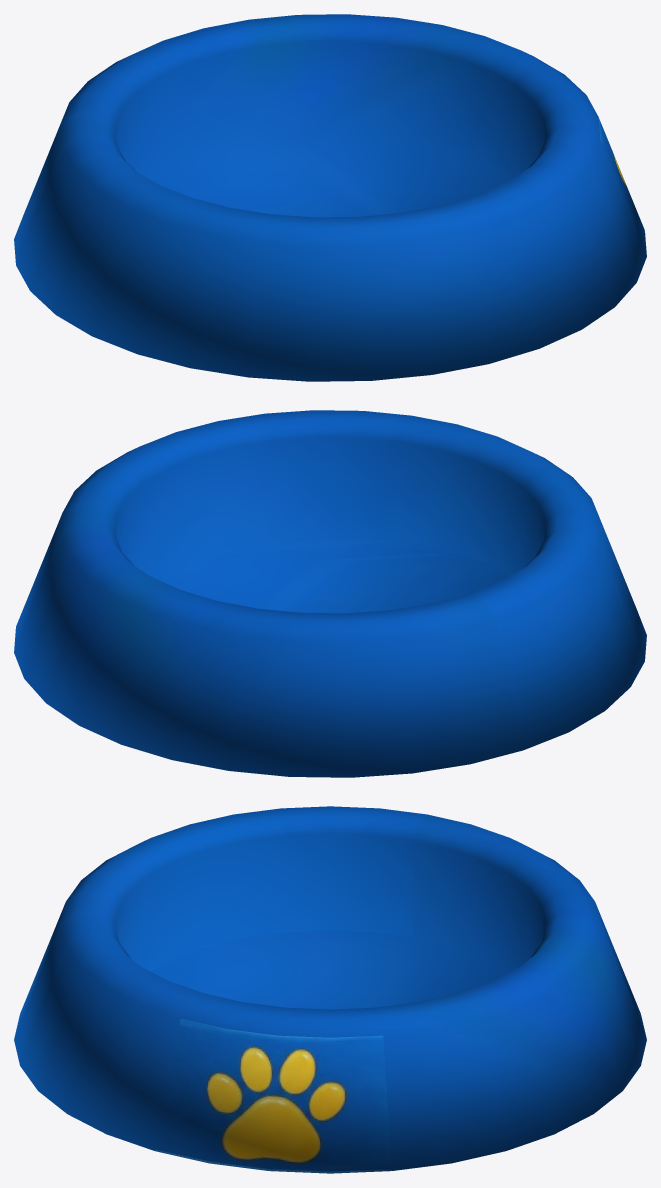
File: PLATO.glb
The picture shows the model from 3 angles, top to bottom: view 1: azimuth 30°, elevation 25°; view 2: azimuth 150°, elevation 25°; view 3: azimuth 270°, elevation 25°; orthographic projection.
Parts seen in each view (by area): view 1: Cylinder; view 2: Cylinder; view 3: Cylinder.
Part boxes in pixels (x1=…): Cylinder: x1=14, y1=14, x2=646, y2=381; Cylinder: x1=14, y1=410, x2=646, y2=777; Cylinder: x1=14, y1=806, x2=646, y2=1173.
Bounding box in the file's own units: 1.38 × 0.3045 × 1.38.
Materials: 1 (1 with a texture image).
